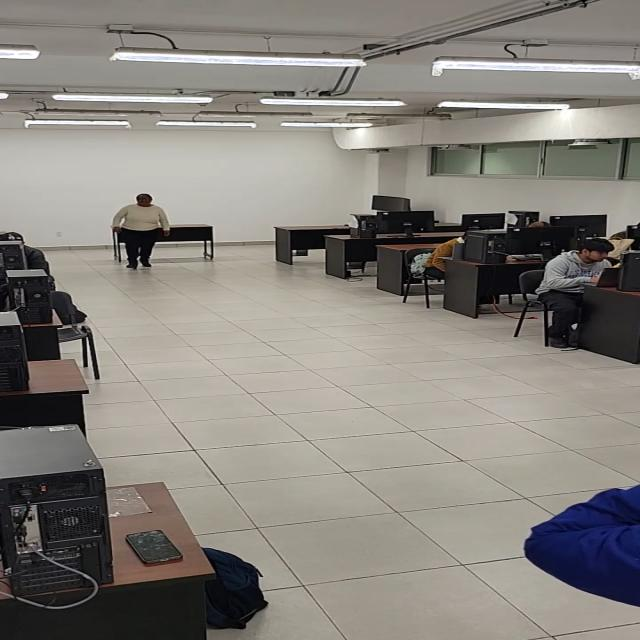Persona: (112, 193, 171, 270)
